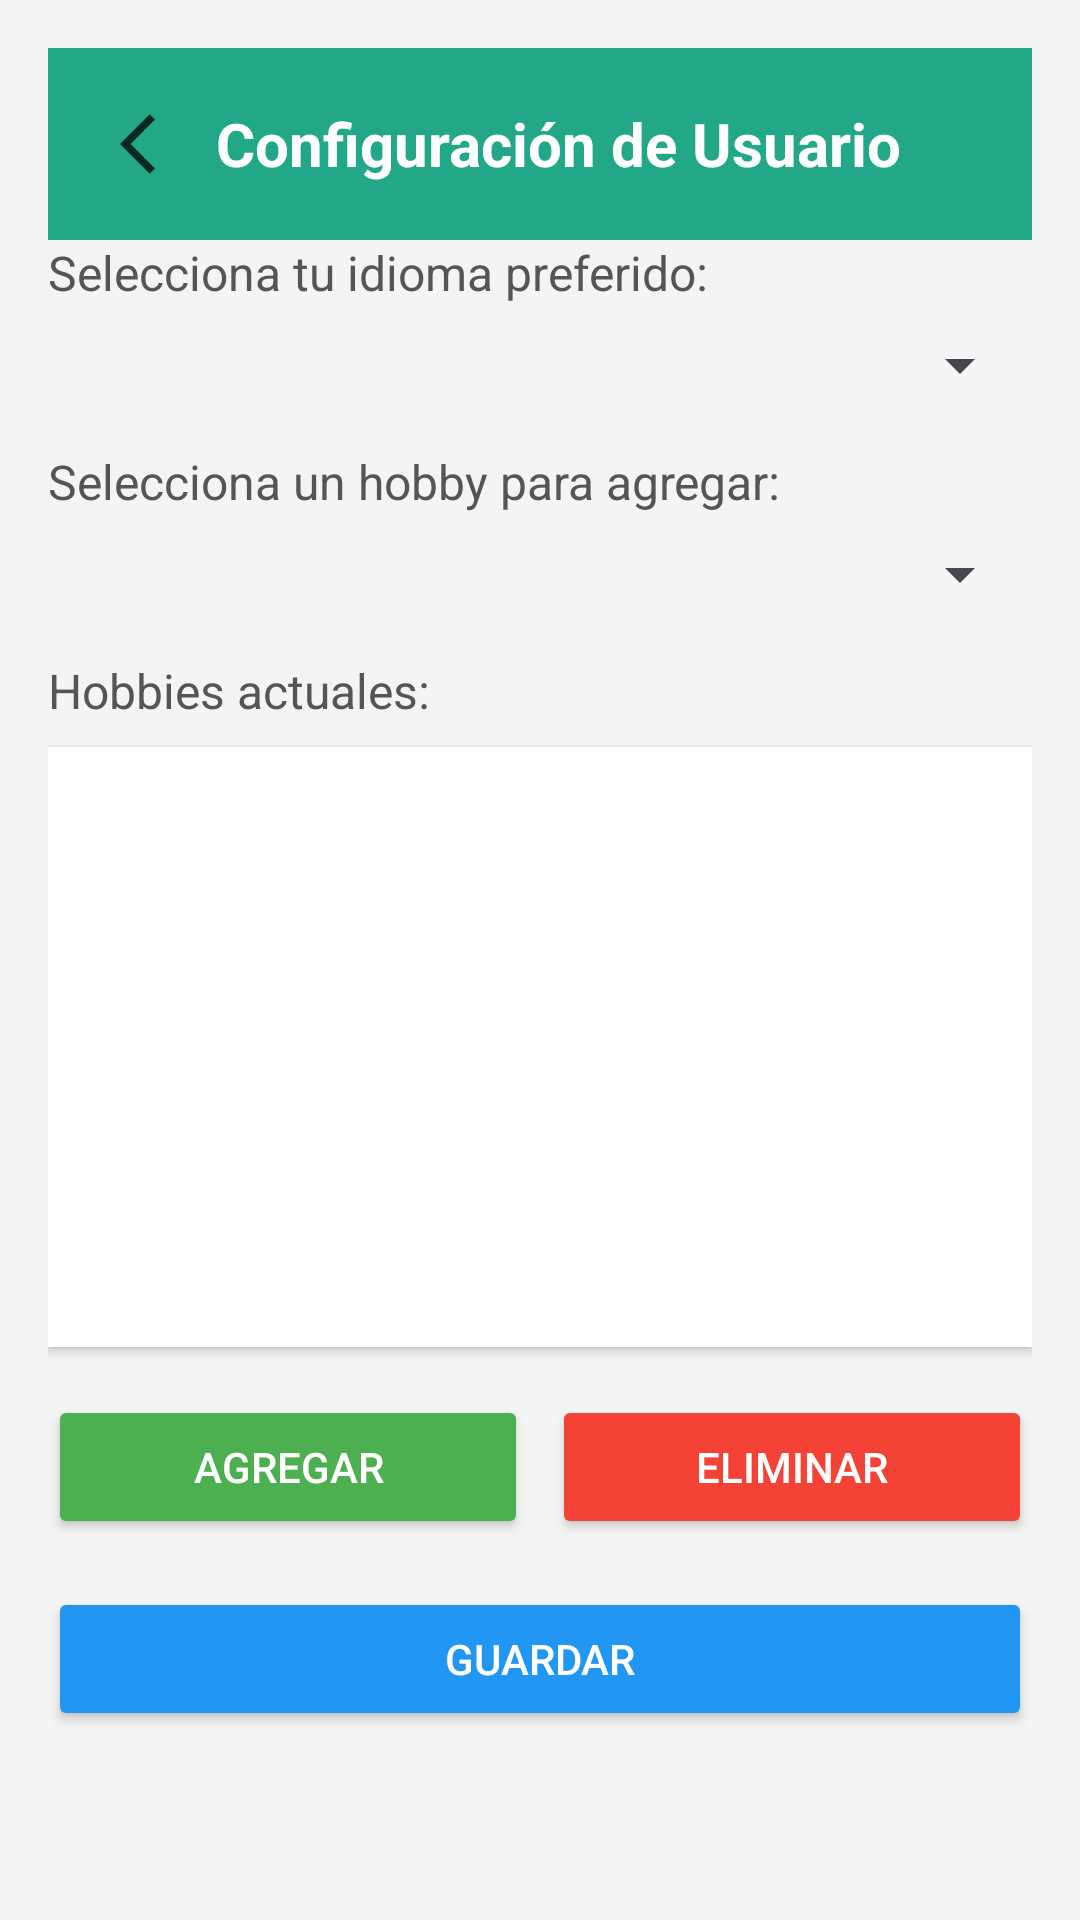

Named icons in this screenshot (1080*1920) and their centers, [x,y]:
Regresar: [137,144]
